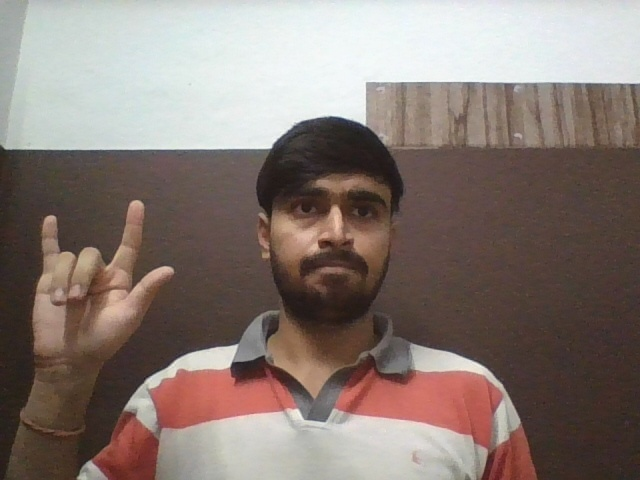I Love You: (30, 198, 175, 369)
